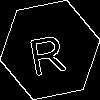R: (25, 25, 68, 77)
